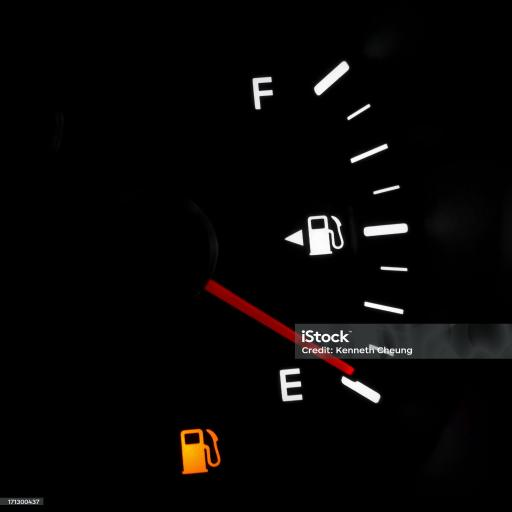empty: (273, 366, 304, 401)
fuel_icon: (293, 212, 348, 254), (178, 426, 220, 475)
full: (251, 71, 273, 115)
guage_area: (59, 24, 449, 486)
needle_center: (88, 184, 229, 307)
needle_tip: (326, 344, 357, 380)
